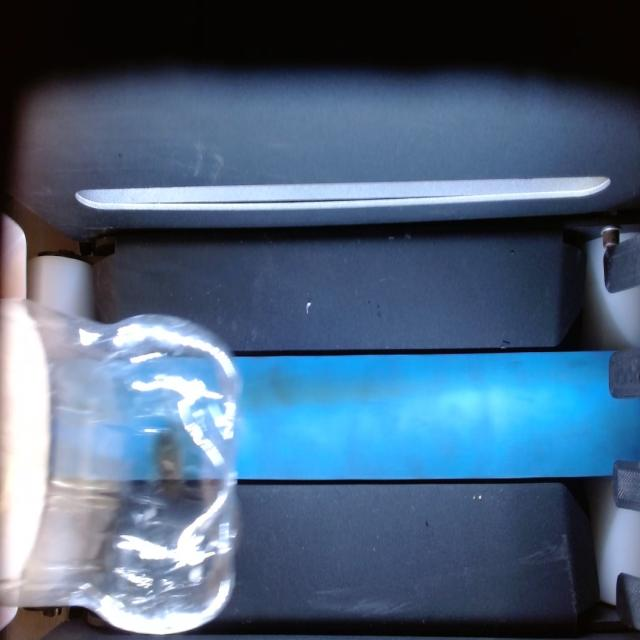bottom: (0, 300, 239, 633)
